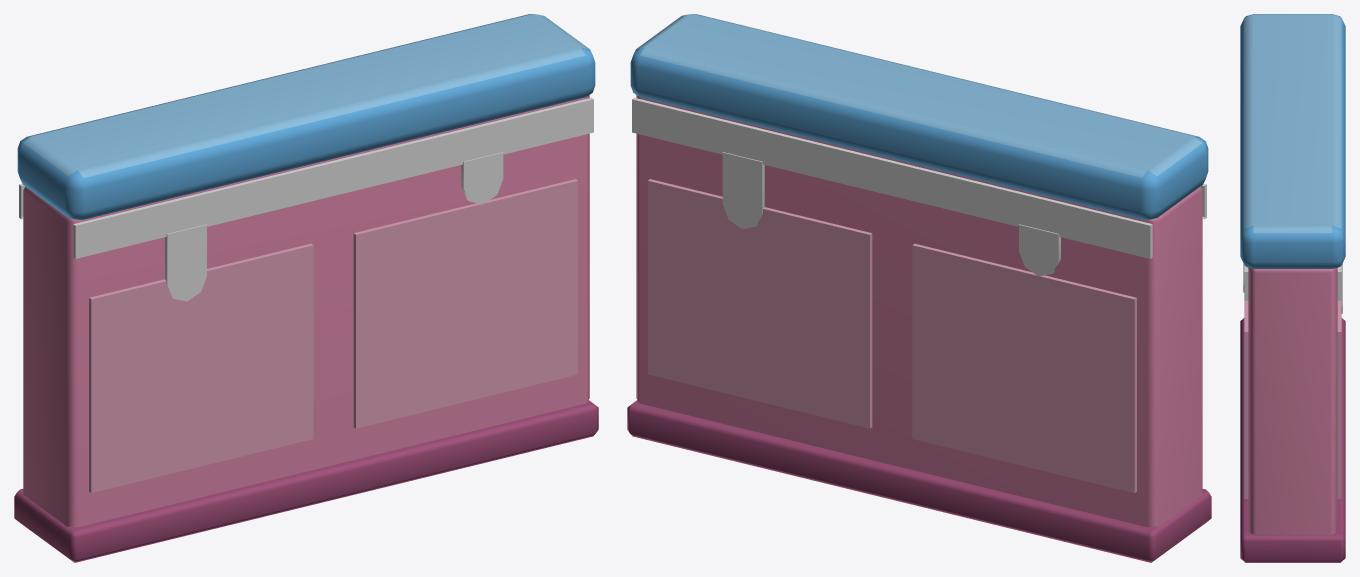
File: block-plotwall1.glb
3 renders of one model, left to right at view 1: azimuth 30°, elevation 25°; view 2: azimuth 150°, elevation 25°; view 3: azimuth 270°, elevation 25°, orthographic. The views are drawn at different scales.
Parts seen in each view (by area): view 1: block-plotwall1; view 2: block-plotwall1; view 3: block-plotwall1.
Part boxes in pixels (left/top/right/bottom): block-plotwall1: left=14, top=14, right=598, bottom=562; block-plotwall1: left=627, top=14, right=1211, bottom=562; block-plotwall1: left=1240, top=14, right=1345, bottom=562.
Size of the model in its own units: 2 by 1.4 by 0.4.
